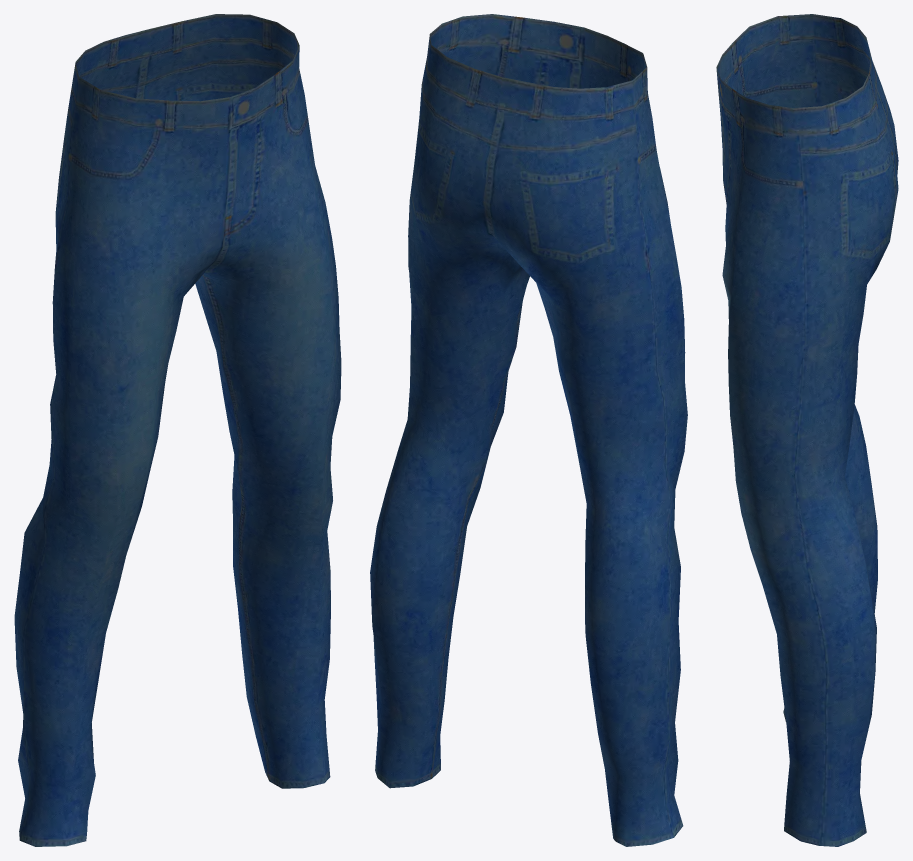
The model's file is MalePants3-2.glb.
3 views of the same model, side by side, from view 1: azimuth 30°, elevation 25°; view 2: azimuth 150°, elevation 25°; view 3: azimuth 270°, elevation 25° (orthographic). The views are drawn at different scales.
Visible parts, largest first — view 1: Pants2; view 2: Pants2; view 3: Pants2.
Boxes of the visible parts, x1,y1,x2,y2 form: Pants2: (14,14,341,846); Pants2: (370,14,687,846); Pants2: (716,14,898,846).
Bounding box in the file's own units: 38.98 × 94.27 × 21.47.
Materials: 1 (1 with a texture image).
